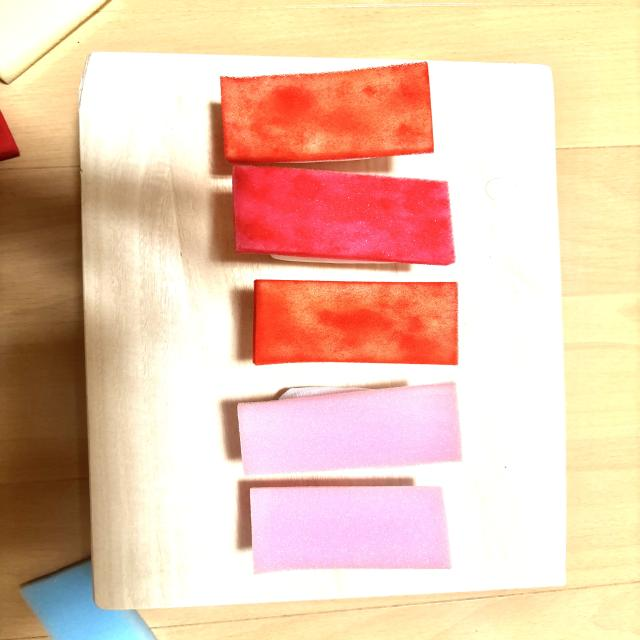maguro: (233, 166, 455, 266)
salmon: (221, 63, 433, 163), (253, 280, 458, 365)
tai: (238, 382, 462, 475), (250, 486, 451, 573)
